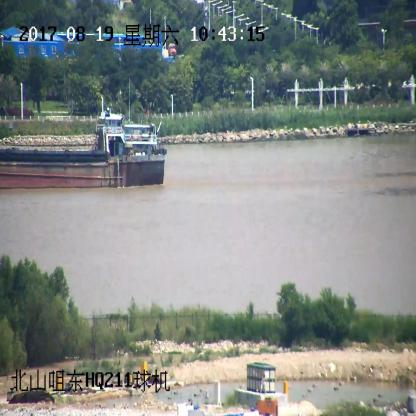Bulk Carrier: (0, 98, 164, 189)
